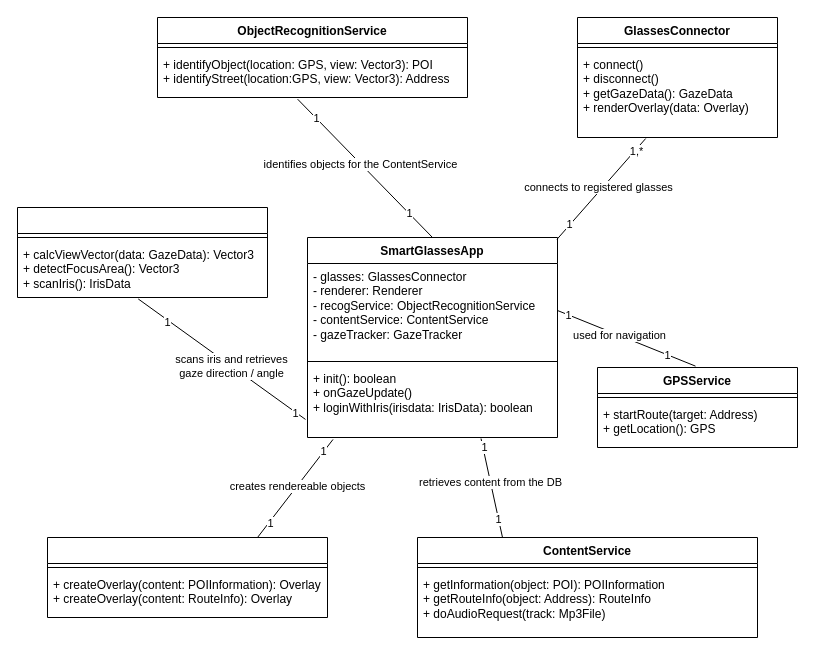
The diagram is 815 pixels wide and 658 high, and some of its shapes have lost their labels. The shapes that lost their labels are listed below. From the top down, each one's box as (x1, y1, x2, y2) in pixels, then its label:
(16, 206, 268, 298): GazeTracker
(46, 536, 328, 618): Renderer
